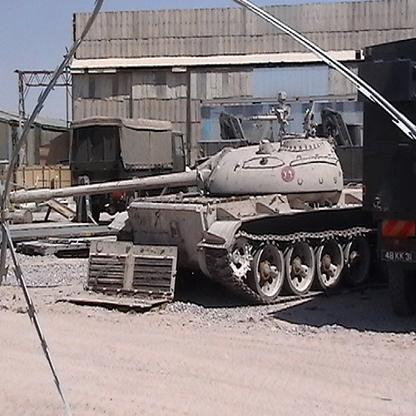Tank: (46, 132, 382, 303)
